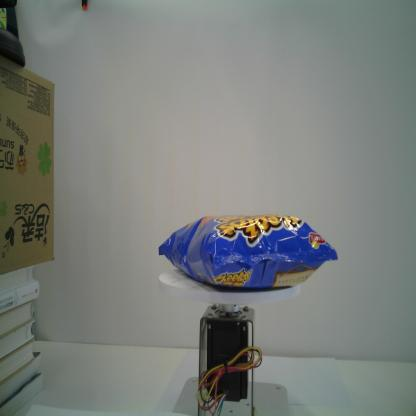Puffed Food: (157, 212, 339, 292)
